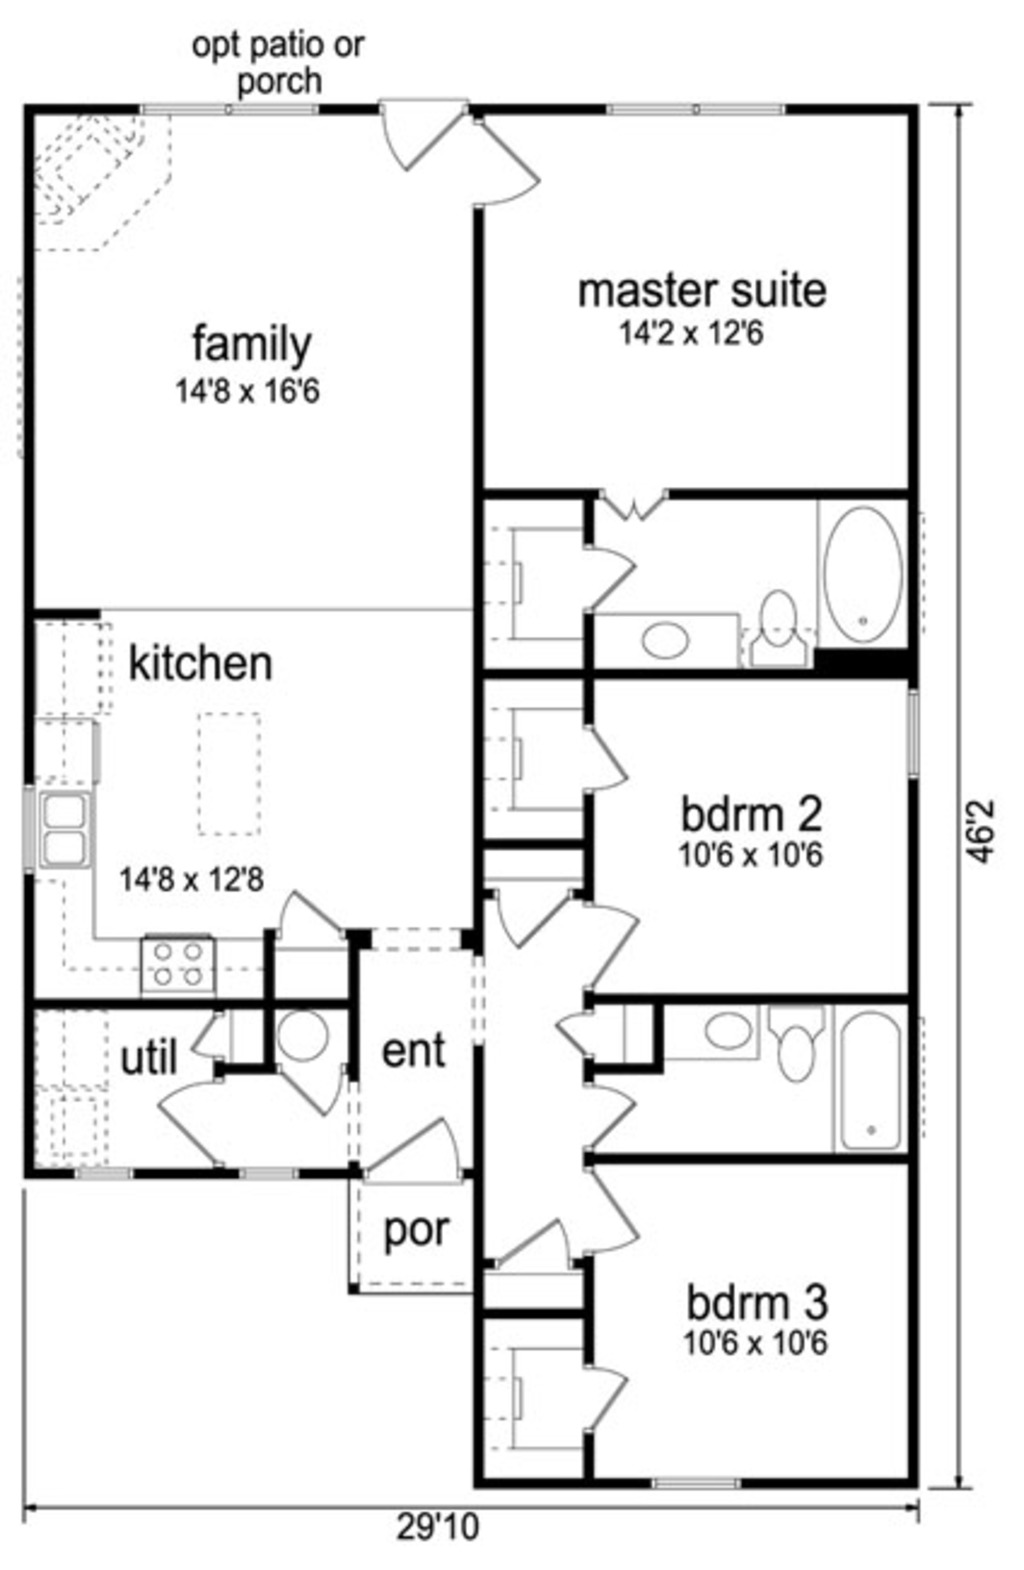door: (376, 94, 476, 179), (151, 1067, 230, 1169), (473, 110, 545, 209), (363, 1117, 463, 1188), (492, 1205, 577, 1283), (582, 1157, 651, 1251), (490, 881, 584, 947), (577, 907, 650, 989), (263, 886, 351, 943), (575, 720, 635, 796), (265, 1067, 342, 1123), (595, 475, 677, 522), (582, 546, 635, 614), (585, 1081, 635, 1151), (555, 997, 600, 1055), (590, 1362, 626, 1428), (188, 1009, 227, 1062)
large_sink: (738, 586, 821, 667), (763, 988, 824, 1086)
small_sink: (593, 614, 740, 673), (661, 993, 759, 1058)
tub: (805, 489, 908, 651), (829, 994, 908, 1153)
twin_sink: (24, 783, 114, 883)
window: (142, 96, 330, 122), (605, 101, 797, 122), (646, 1465, 755, 1499)
